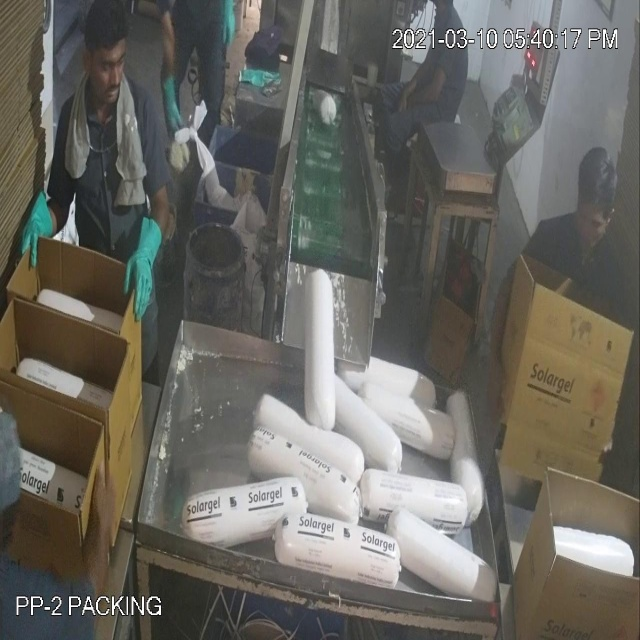Guantes: (123, 200, 164, 339), (14, 188, 60, 268)
Sin_guantes: (78, 455, 121, 640), (485, 252, 522, 437), (399, 60, 451, 115)
